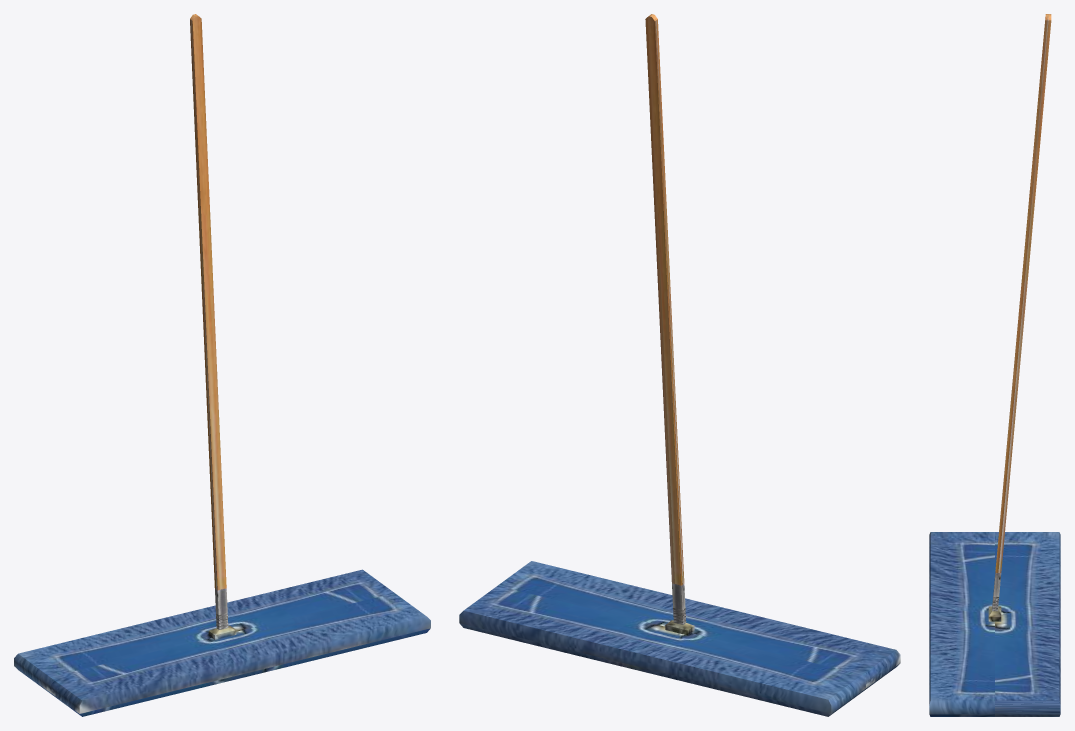
The model's file is dust_mop.FBX.
3 views of the same model, side by side, from view 1: azimuth 30°, elevation 25°; view 2: azimuth 150°, elevation 25°; view 3: azimuth 270°, elevation 25° (orthographic). The views are drawn at different scales.
Visible parts, largest first — view 1: dust_mop; view 2: dust_mop; view 3: dust_mop.
Part boxes in pixels (x1,y1,x2,y2): dust_mop: [14, 14, 430, 716]; dust_mop: [459, 14, 900, 716]; dust_mop: [929, 14, 1060, 716].
Size of the model in its own units: 64.74 by 109 by 20.92.
